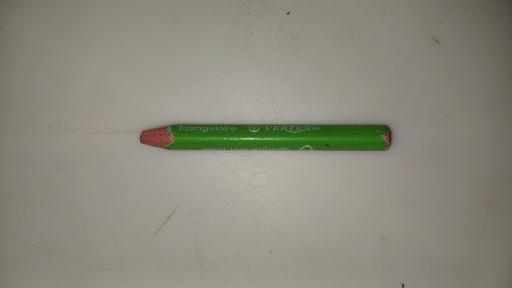Pencil: (137, 124, 393, 151)
